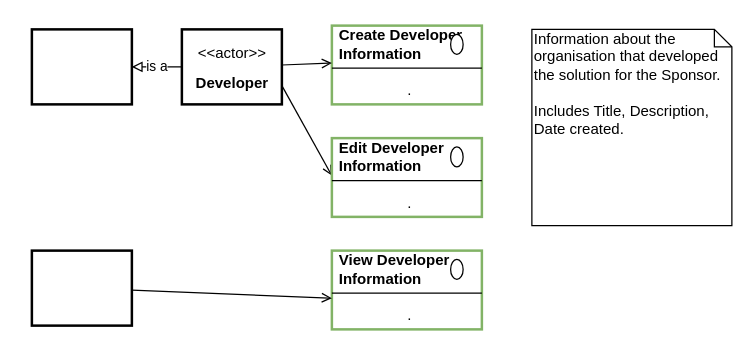
The diagram is 754 pixels wide and 354 high, and some of its shapes have lost their labels. Each missing label, with the centre of its shape:
<<actor>> UnAudited User: pixel 81 66
<<actor>> UnAuthenticated User: pixel 81 287
